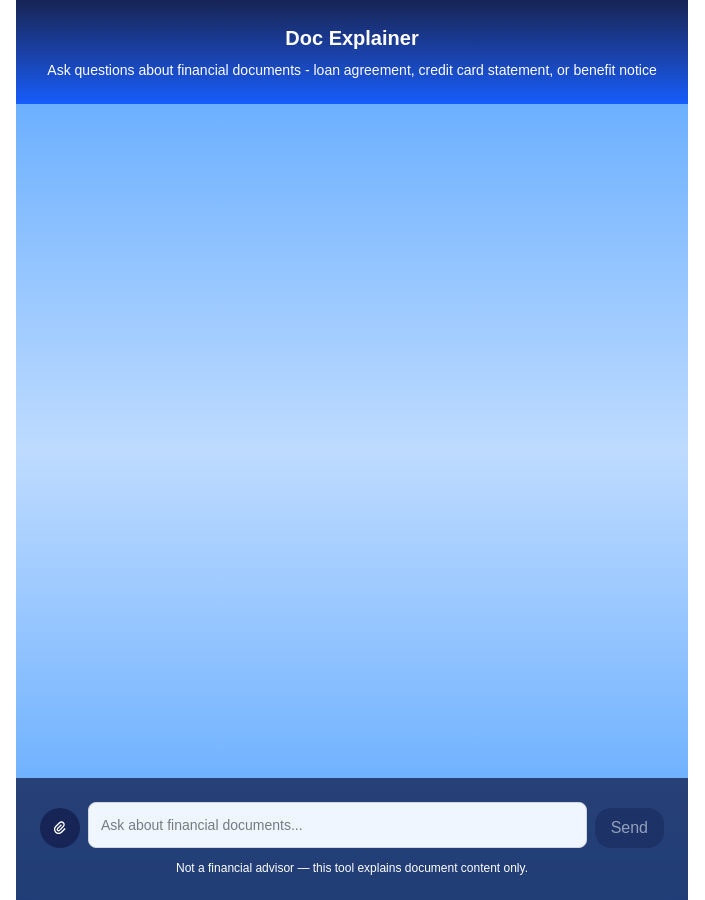
Test: Home › submitting › sends only text when no file is attached
Type "  What is APR?  " into the text box labelled "Ask about financial documents" at (337, 825), box [88,802,587,848]
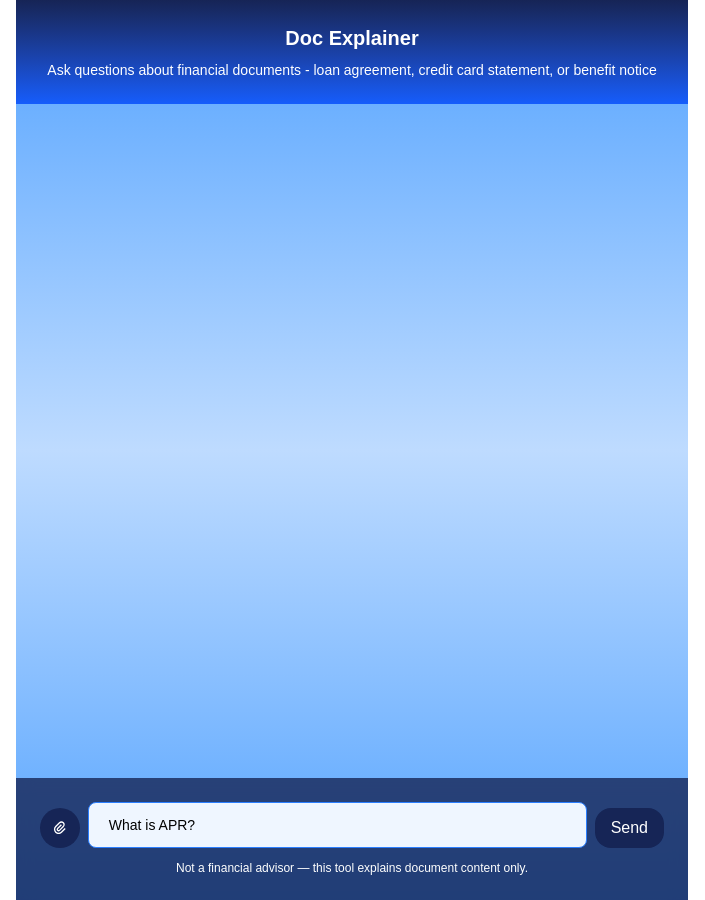
Click the button "Send" at (629, 828), box [595,808,664,848]
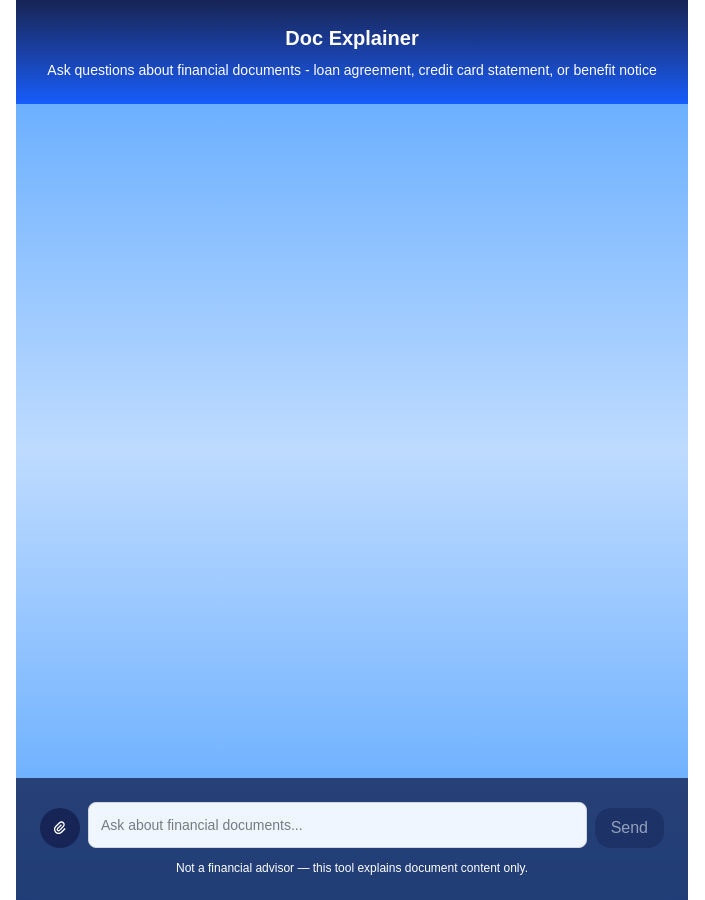
Result: the text box labelled "Ask about financial documents" is empty at [88,802,587,848]
